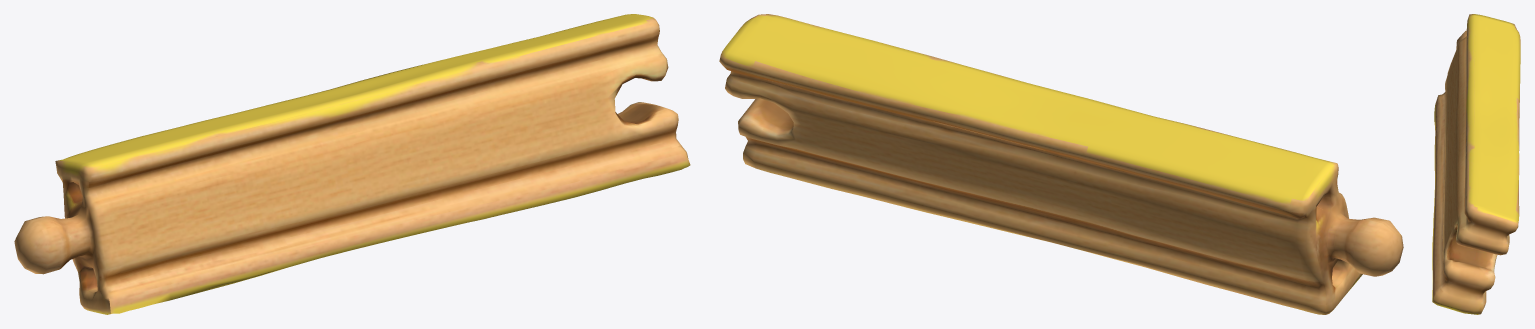
The model's file is WoodTrail_YellowStraight.fbx.
The picture shows the model from 3 angles, left to right: view 1: azimuth 30°, elevation 25°; view 2: azimuth 150°, elevation 25°; view 3: azimuth 270°, elevation 25°; orthographic projection. The views are drawn at different scales.
Parts seen in each view (by area): view 1: Trail_YelloStraight; view 2: Trail_YelloStraight; view 3: Trail_YelloStraight.
Boxes of the visible parts, box(x1,y1,x2,y2) form: Trail_YelloStraight: box(14, 14, 690, 314); Trail_YelloStraight: box(719, 14, 1403, 314); Trail_YelloStraight: box(1432, 14, 1520, 314).
Size of the model in its own units: 45.68 by 10.49 by 7.54.
Materials: 1 (1 with a texture image).
